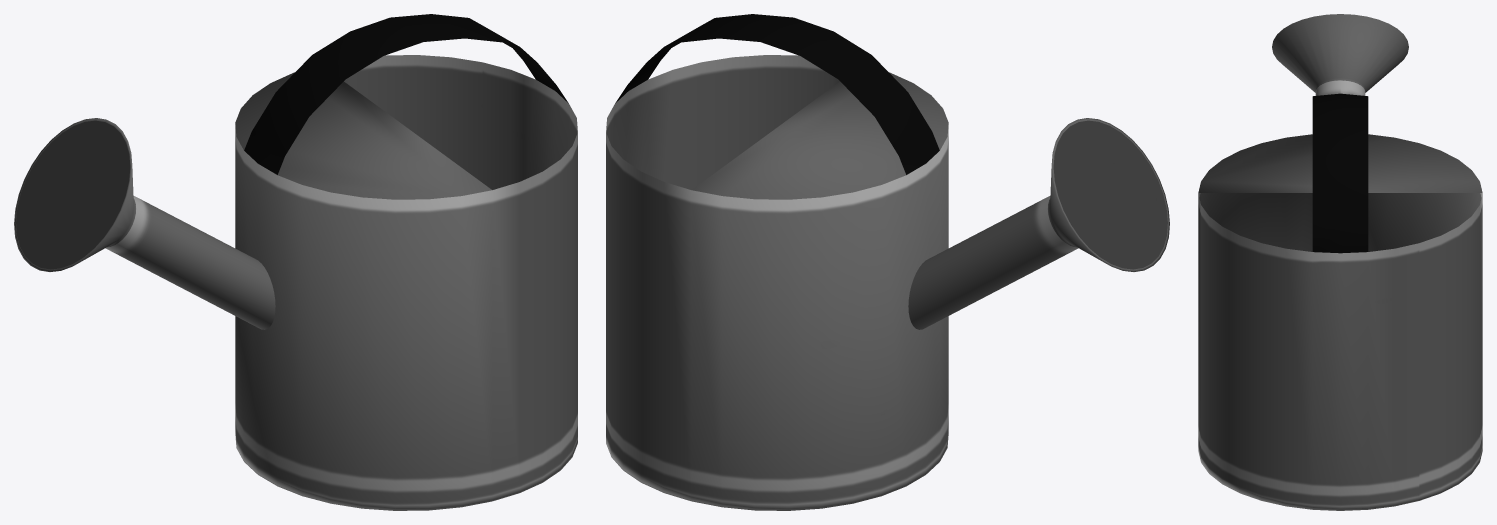
The model's file is Water Pot.fbx.
The picture shows the model from 3 angles, left to right: view 1: azimuth 30°, elevation 25°; view 2: azimuth 150°, elevation 25°; view 3: azimuth 270°, elevation 25°; orthographic projection. The views are drawn at different scales.
Visible parts, largest first — view 1: Cylinder.001; view 2: Cylinder.001; view 3: Cylinder.001.
Part boxes in pixels (left/top/right/bottom): Cylinder.001: left=14, top=14, right=577, bottom=510; Cylinder.001: left=606, top=14, right=1169, bottom=510; Cylinder.001: left=1198, top=14, right=1482, bottom=510.
Bounding box in the file's own units: 56.45 × 42.34 × 32.01.
